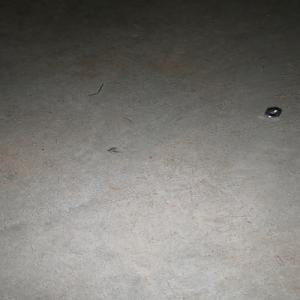Nut: (263, 106, 282, 118)
